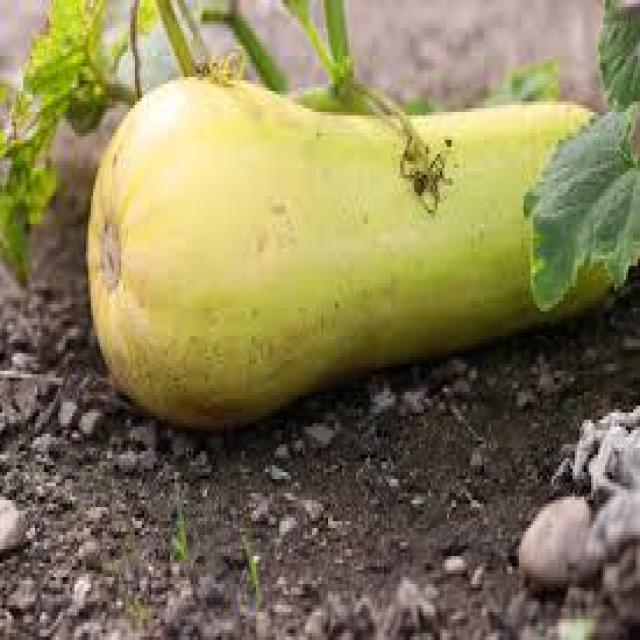organic waste: (81, 67, 610, 430)
